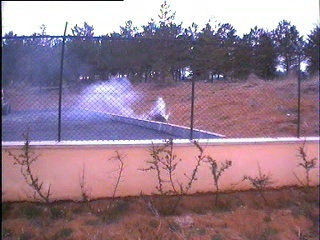smoke: (72, 72, 168, 121)
